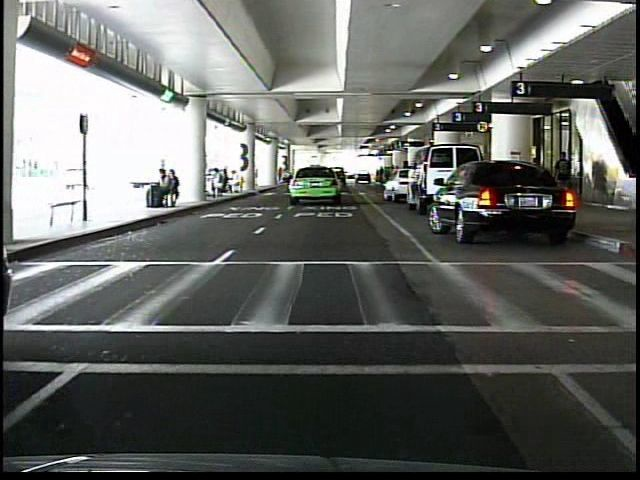person: (553, 149, 576, 209)
